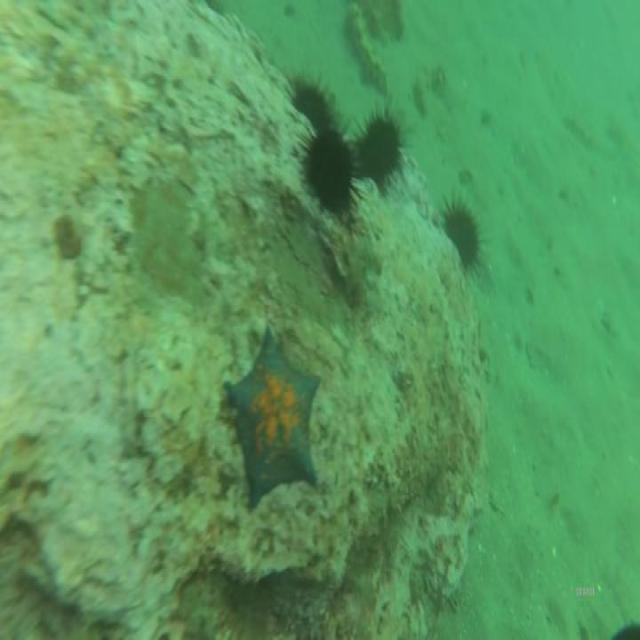echinus: (295, 112, 369, 229), (438, 183, 492, 288), (356, 100, 412, 198), (284, 63, 339, 138)
holothurian: (342, 1, 392, 94)
starfish: (222, 326, 324, 512)
